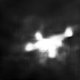plane: (25, 26, 79, 64)
